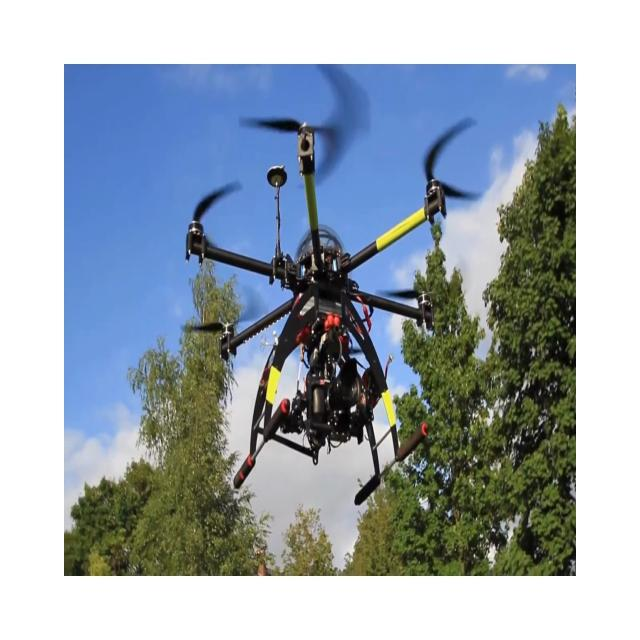drone: (184, 64, 483, 506)
